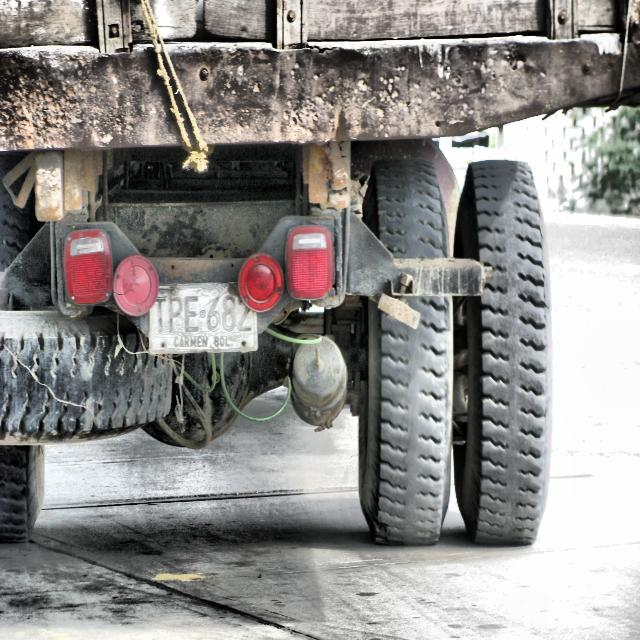plate: (148, 281, 259, 355)
